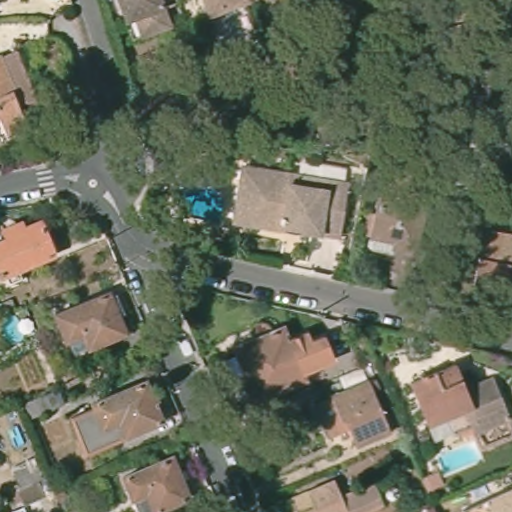pool: (179, 179, 228, 229), (431, 438, 491, 474), (1, 315, 28, 350), (7, 421, 29, 448)
